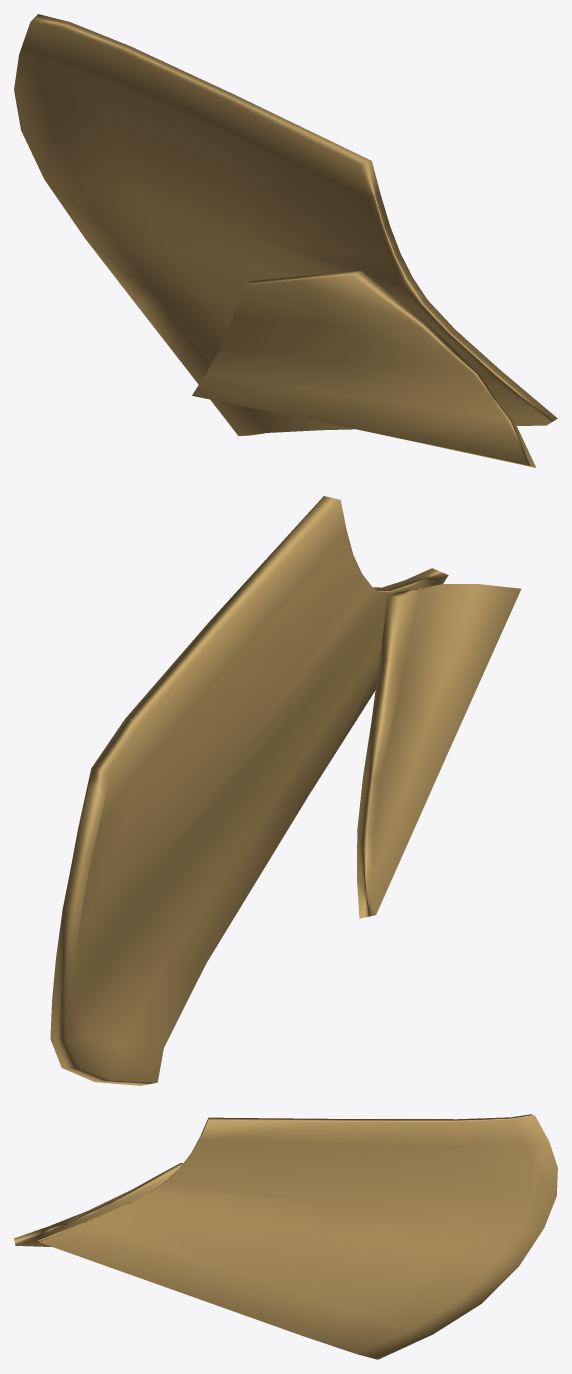
3 views of the same model, one above another, from view 1: azimuth 30°, elevation 25°; view 2: azimuth 150°, elevation 25°; view 3: azimuth 270°, elevation 25° (orthographic). The views are drawn at different scales.
Visible parts, largest first — view 1: 右侧胫舟韧带; view 2: 右侧胫舟韧带; view 3: 右侧胫舟韧带.
Part boxes in pixels (x1,y1,x2,y2): 右侧胫舟韧带: (14, 14, 557, 467); 右侧胫舟韧带: (50, 496, 521, 1085); 右侧胫舟韧带: (14, 1114, 557, 1359).
Bounding box in the file's own units: 0.00923 × 0.0207 × 0.0434.
